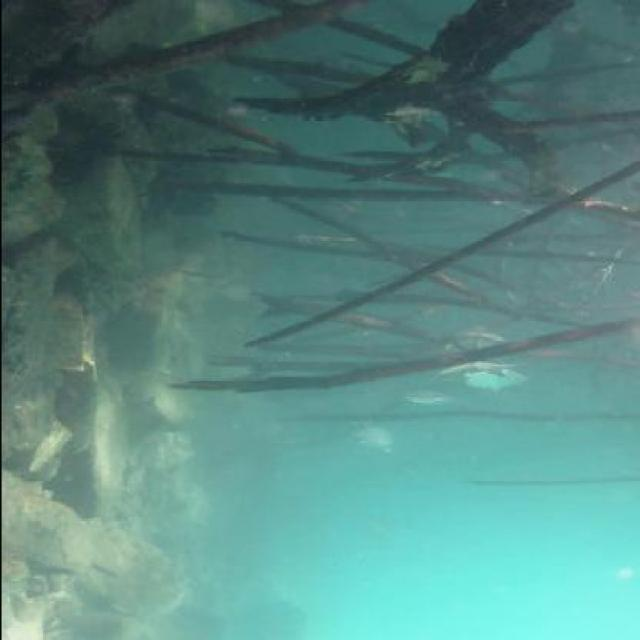Caranx_sexfasciatus_juvenile: (442, 332, 526, 386), (462, 364, 542, 394), (338, 422, 399, 456), (393, 386, 461, 414)
